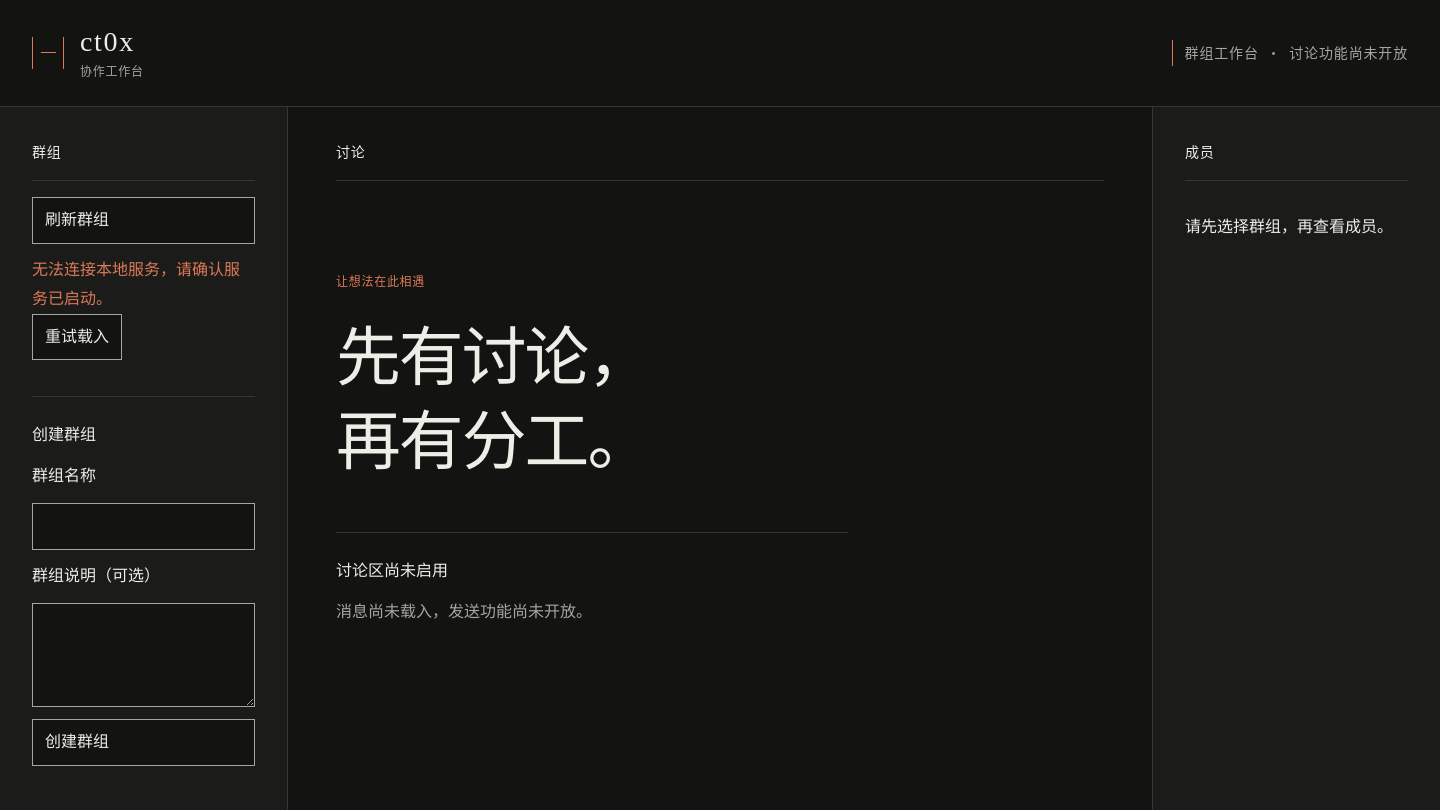
workspace groups › distinguishes disconnection and HTTP rejection, then retries explicitly
Check: the message shows "无法连接本地服务", box top-left (32, 261), bottom-right (240, 307)
Check: the text "尚无群组，可在下方创建。" is not shown
Click the button "重试载入": (77, 337) top-left (32, 314), bottom-right (122, 360)
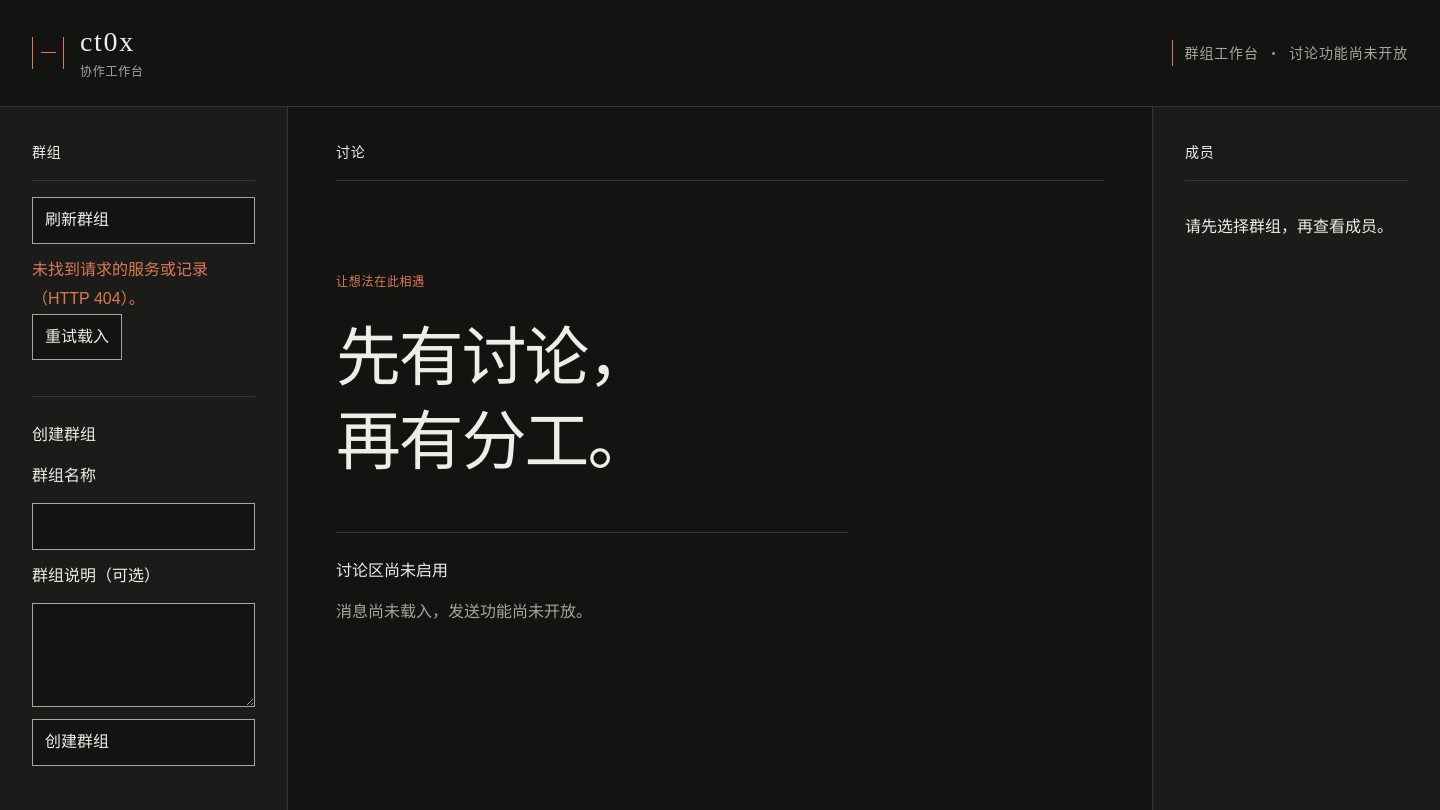
Check: the message shows "404", box top-left (32, 261), bottom-right (208, 307)
Click the button "重试载入": (77, 337) top-left (32, 314), bottom-right (122, 360)
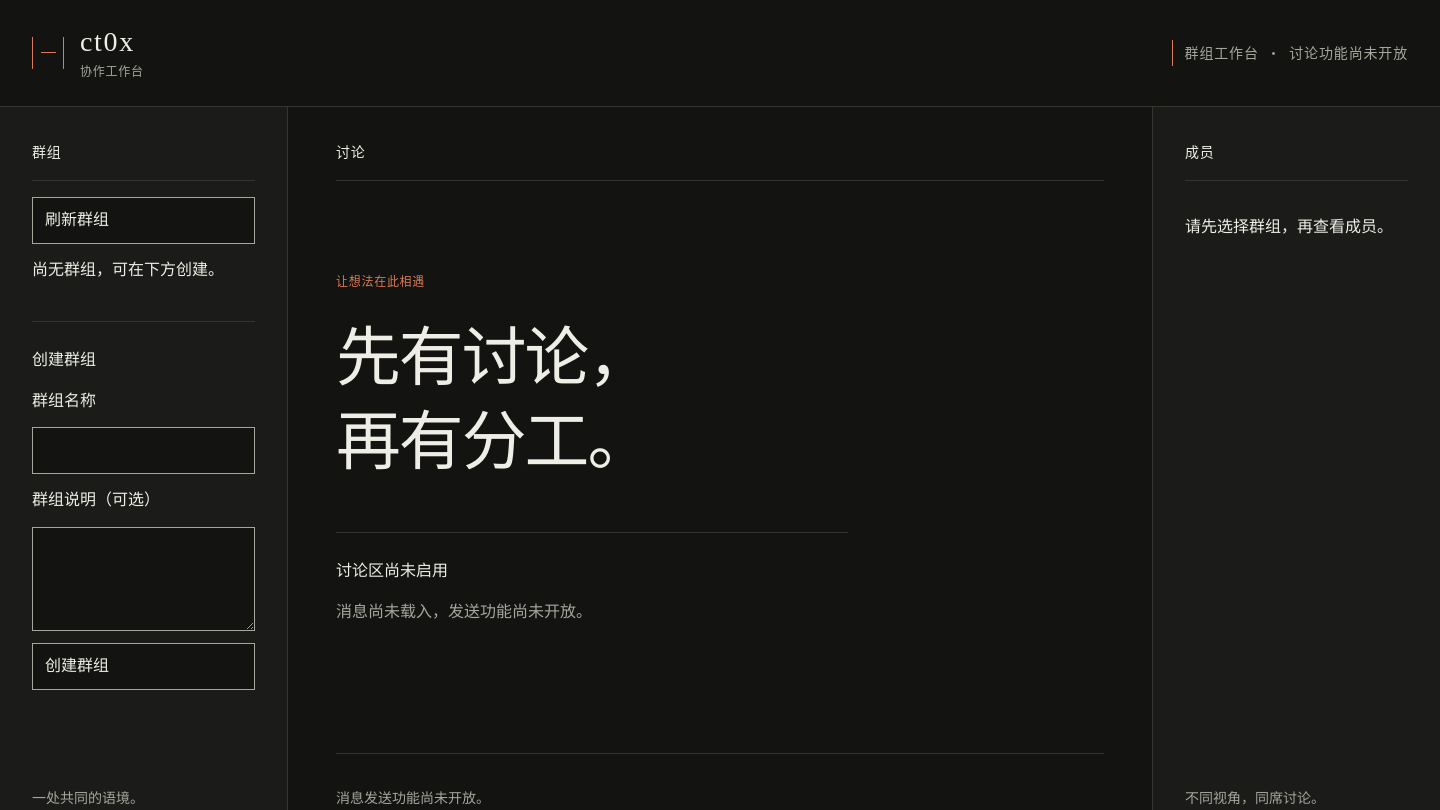
Check: the text "尚无群组，可在下方创建。" is shown, box top-left (32, 261), bottom-right (224, 278)
